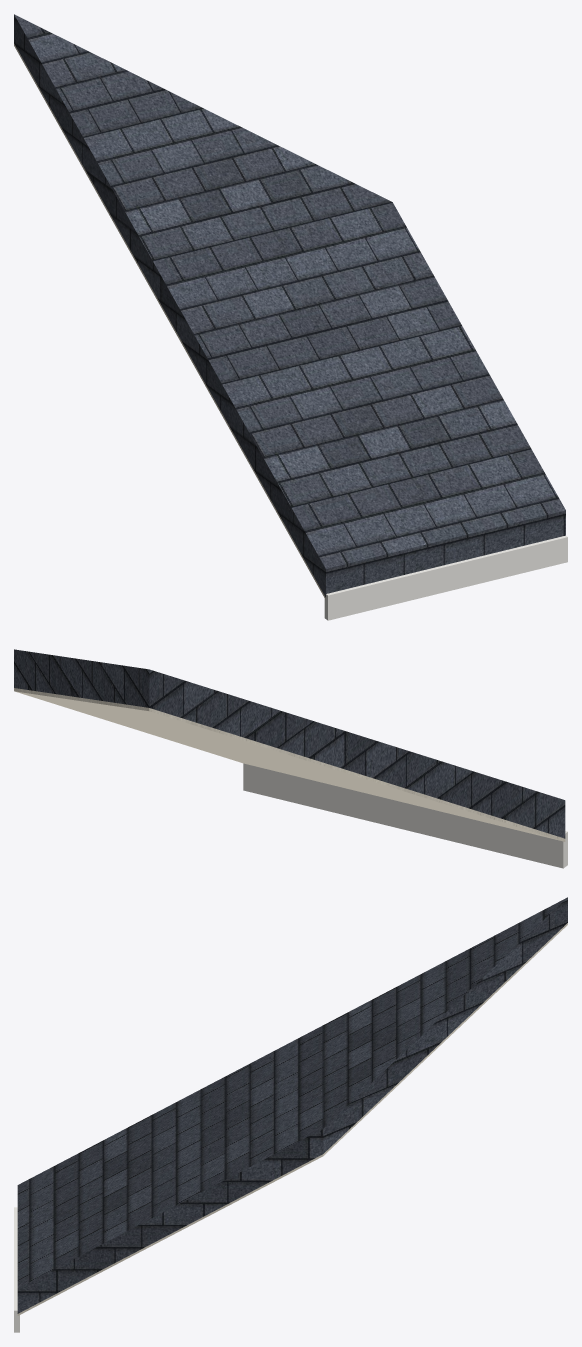
Rendered from roof_hip_3.glb.
The picture shows the model from 3 angles, top to bottom: view 1: azimuth 30°, elevation 25°; view 2: azimuth 150°, elevation 25°; view 3: azimuth 270°, elevation 25°; orthographic projection. The views are drawn at different scales.
Parts seen in each view (by area): view 1: roof_hip_3_shingle, roof_hip_3_trim, roof_hip_3_plaster; view 2: roof_hip_3_shingle, roof_hip_3_plaster, roof_hip_3_trim; view 3: roof_hip_3_shingle, roof_hip_3_plaster.
Boxes of the visible parts, x1,y1,x2,y2 form: roof_hip_3_shingle: [14, 14, 565, 597]; roof_hip_3_trim: [324, 535, 567, 620]; roof_hip_3_plaster: [14, 43, 325, 599]; roof_hip_3_shingle: [14, 649, 565, 838]; roof_hip_3_plaster: [14, 688, 565, 841]; roof_hip_3_trim: [243, 763, 567, 868]; roof_hip_3_shingle: [17, 897, 567, 1313]; roof_hip_3_plaster: [17, 923, 567, 1315].
Bounding box in the file's own units: 2 × 3 × 4.53.
3 materials, 2 textured.
